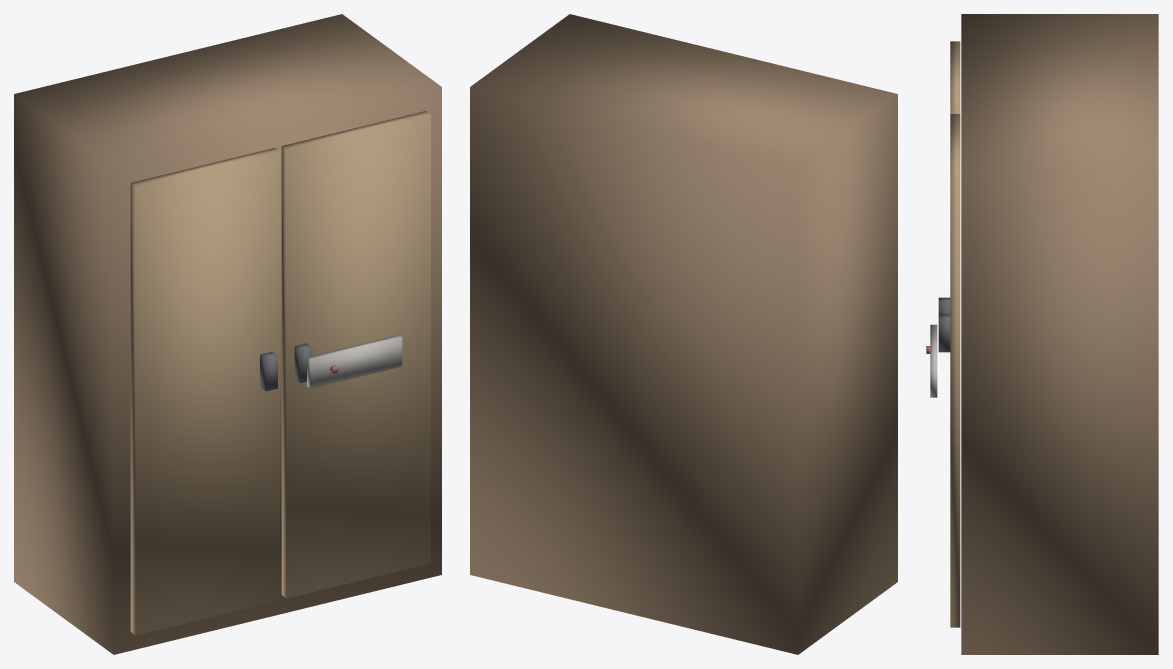
File: photo_chemical_cabinet.glb
The picture shows the model from 3 angles, left to right: view 1: azimuth 30°, elevation 25°; view 2: azimuth 150°, elevation 25°; view 3: azimuth 270°, elevation 25°; orthographic projection.
Visible parts, largest first — view 1: world; view 2: world; view 3: world.
Part boxes in pixels (x1,y1,x2,y2): world: (14,14,441,654); world: (470,14,897,654); world: (926,14,1158,654).
Size of the model in its own units: 0.95 by 1.35 by 0.5885.
